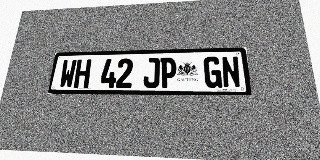2: (116, 58, 133, 88)
4: (100, 59, 118, 88)
G: (203, 56, 222, 88)
H: (73, 59, 92, 88)
J: (143, 58, 160, 88)
N: (221, 56, 241, 88)
P: (160, 57, 176, 88)
W: (58, 60, 77, 88)
